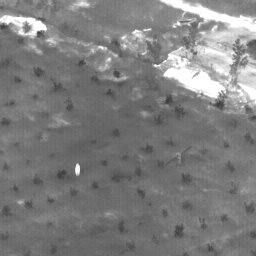Target: (73, 163, 82, 178)
